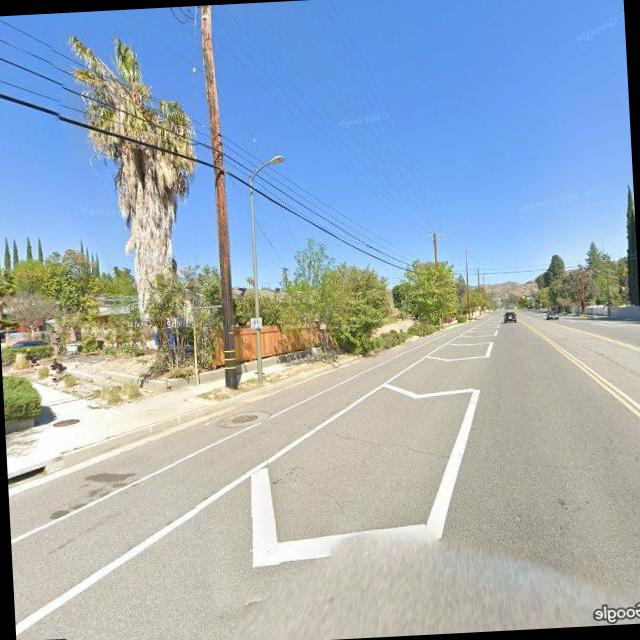crack: (280, 409, 452, 468)
